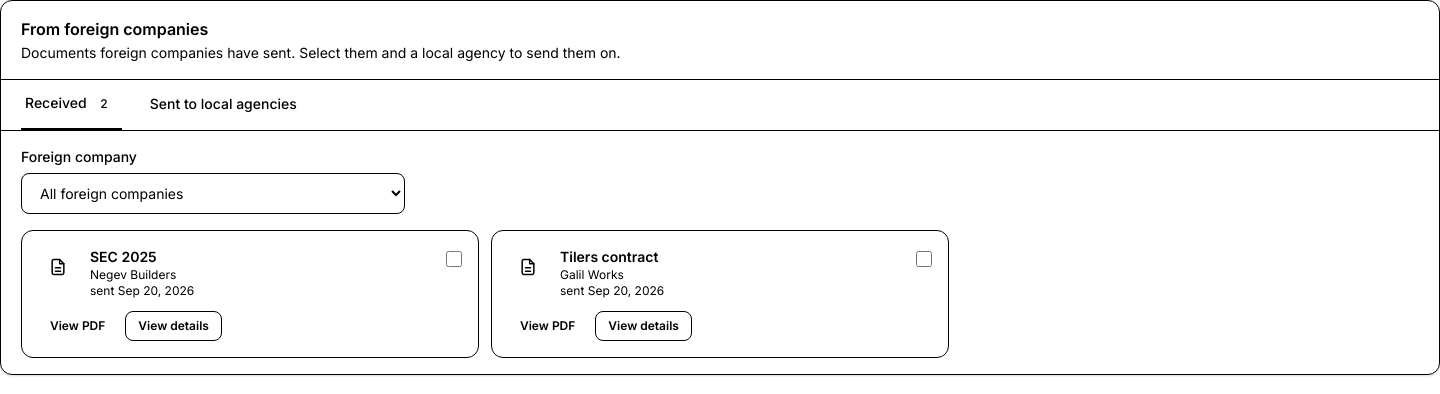
Test: documents from foreign companies, on the admin side › shows each document as a card, narrowed by company
This screenshot has width=1440, height=394.
Check: the text "SEC 2025" is shown, box [90,248,157,265]
Check: the text "Tilers contract" is shown, box [560,248,658,265]
Select "Galil Works (GAL) - 1 waiting" in the dropdown labelled "Foreign company" at (213, 194), box [21,173,405,214]
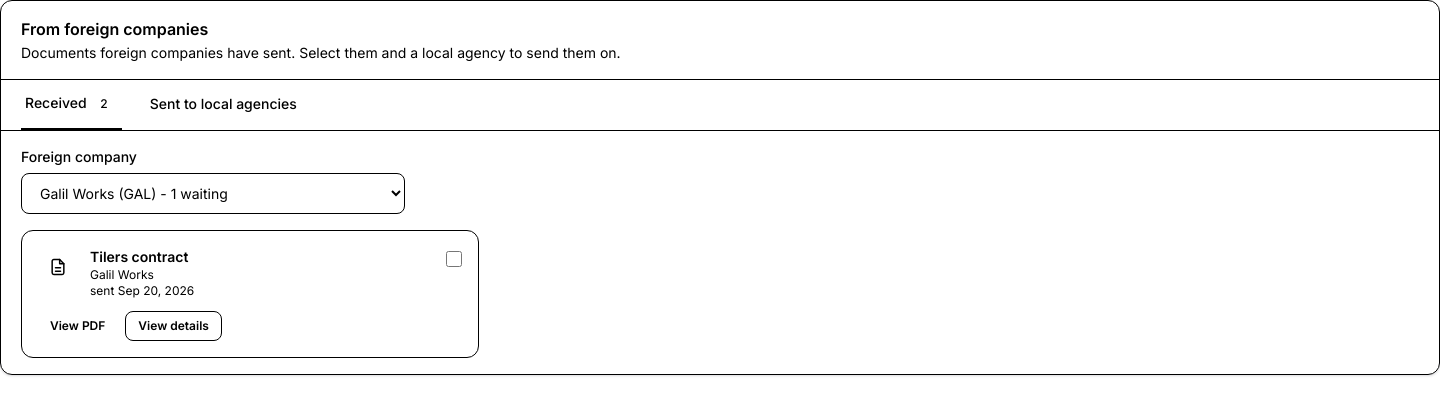
Check: the text "Tilers contract" is shown, box [90,248,188,265]
Check: the text "SEC 2025" is gone
